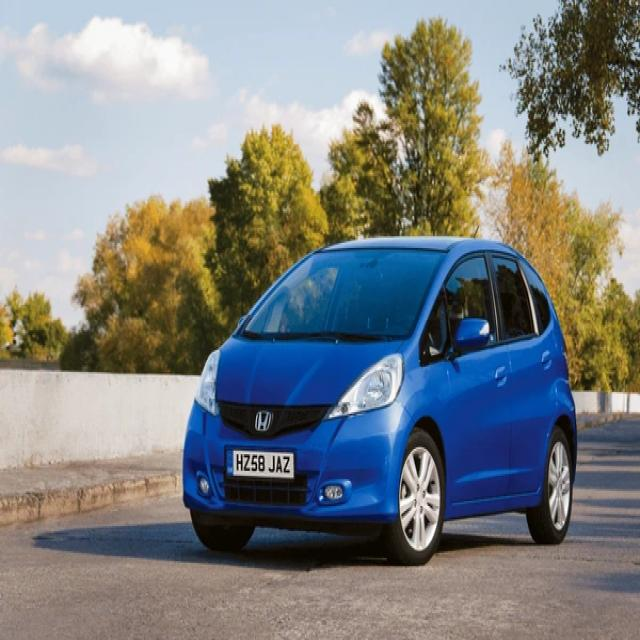honda: (253, 412, 273, 432)
